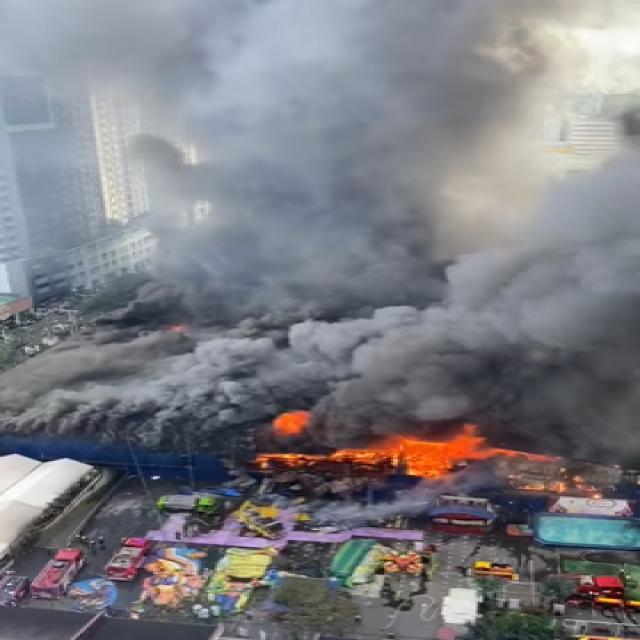Fire: (252, 425, 569, 477), (514, 476, 608, 498), (272, 410, 316, 436)
Smoke: (0, 134, 640, 466), (92, 0, 538, 330)
